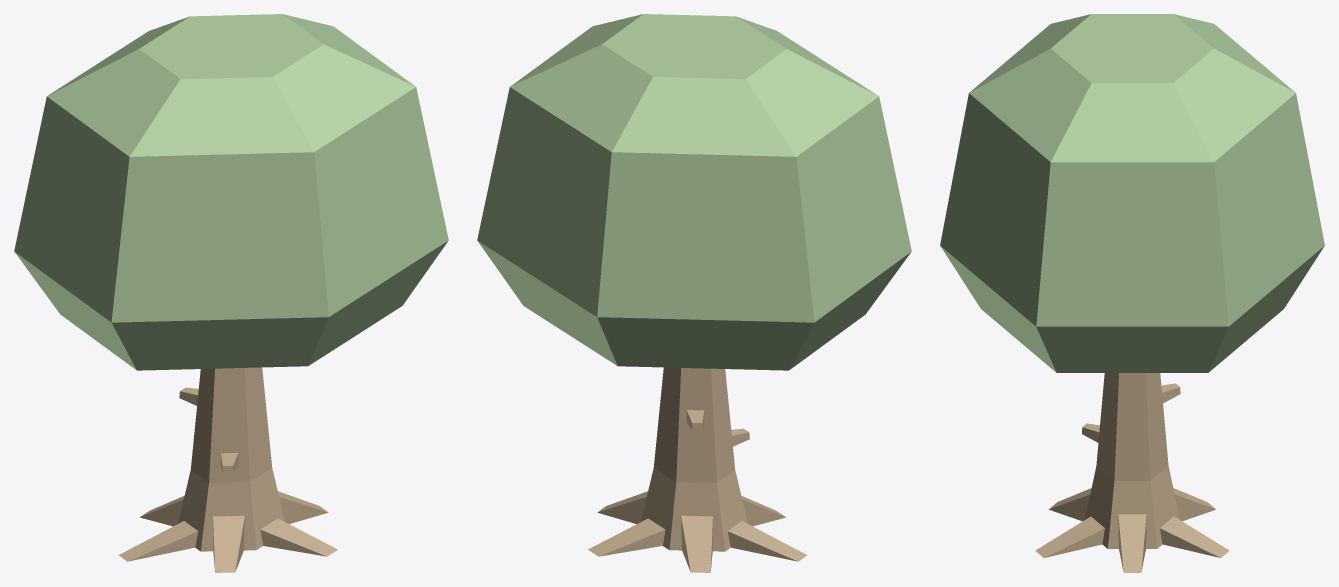
The model's file is crafted-apple-tree-empty.glb.
The picture shows the model from 3 angles, left to right: view 1: azimuth 30°, elevation 25°; view 2: azimuth 150°, elevation 25°; view 3: azimuth 270°, elevation 25°; orthographic projection.
Parts seen in each view (by area): view 1: tree-0, tree-1; view 2: tree-0, tree-1; view 3: tree-0, tree-1.
Boxes of the visible parts, bbox=[...] form: tree-0: bbox=[14, 14, 448, 370]; tree-1: bbox=[119, 367, 337, 572]; tree-0: bbox=[477, 14, 911, 370]; tree-1: bbox=[588, 367, 806, 572]; tree-0: bbox=[940, 14, 1324, 372]; tree-1: bbox=[1035, 373, 1229, 572].
Bounding box in the file's own units: 1.6 × 2.2 × 1.6.
